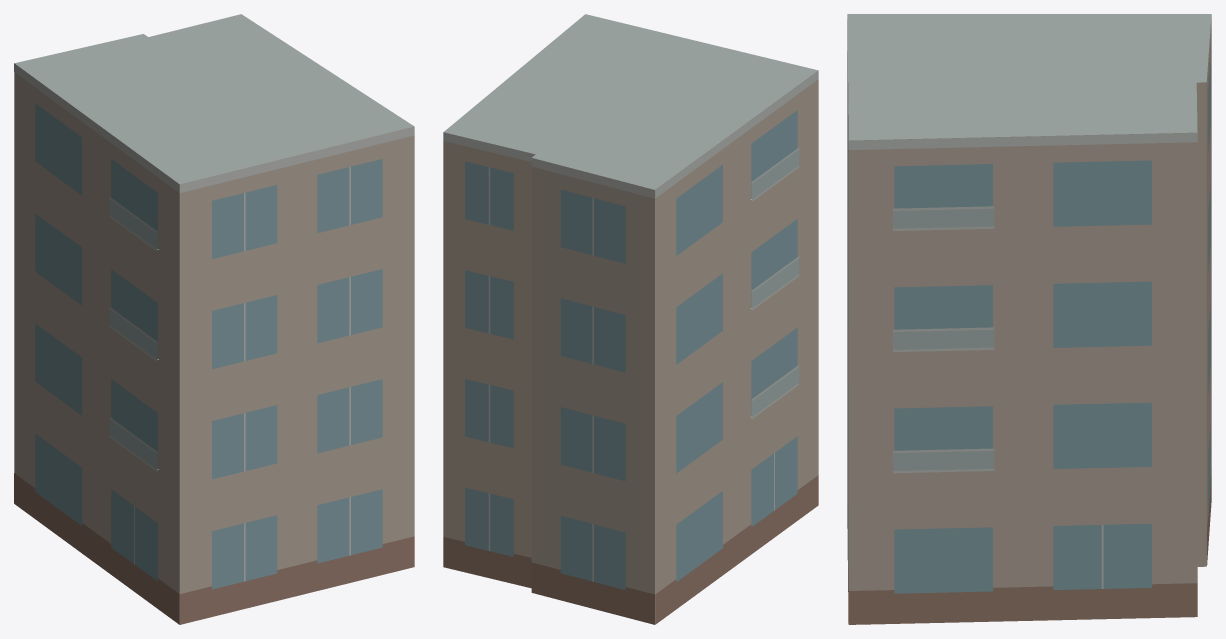
Rendered from survey-upis-32511983.glb.
3 renders of one model, left to right at view 1: azimuth 30°, elevation 25°; view 2: azimuth 150°, elevation 25°; view 3: azimuth 270°, elevation 25°, orthographic. The views are drawn at different scales.
Visible parts, largest first — view 1: survey-upis-32511983.tmp; view 2: survey-upis-32511983.tmp; view 3: survey-upis-32511983.tmp.
Part boxes in pixels (x1,y1,x2,y2): survey-upis-32511983.tmp: (14,14,414,624); survey-upis-32511983.tmp: (443,14,818,624); survey-upis-32511983.tmp: (847,14,1211,624).
Size of the model in its own units: 6.88 by 12.22 by 8.34.
